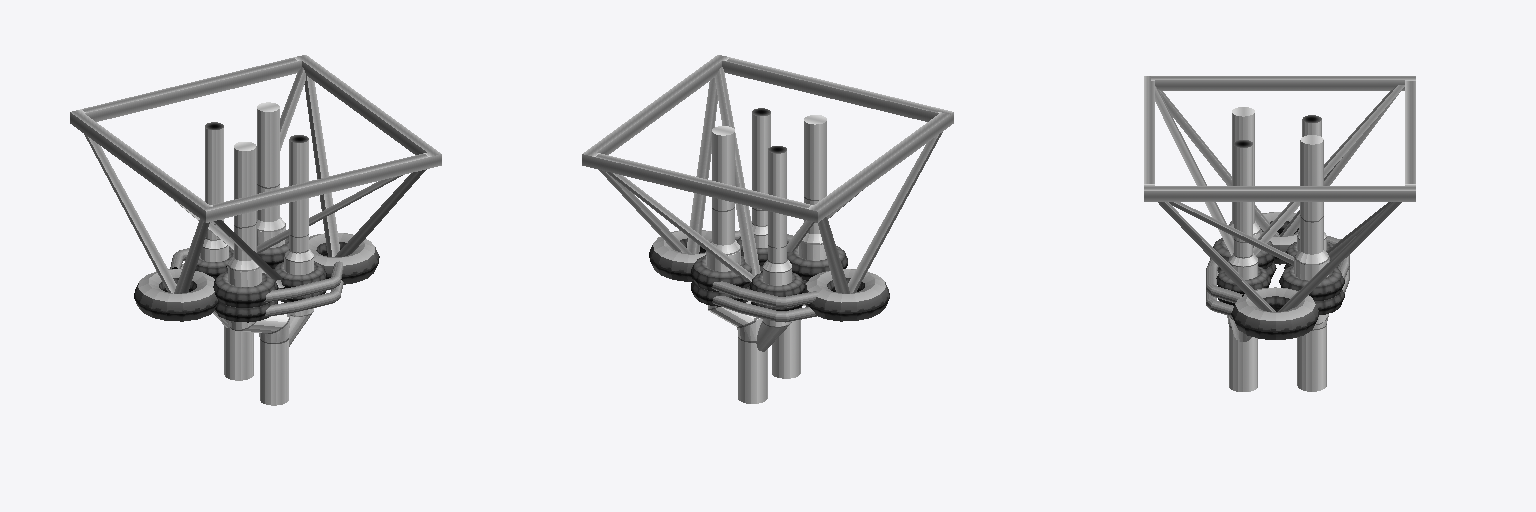
3 views of the same model, side by side, from view 1: azimuth 30°, elevation 25°; view 2: azimuth 150°, elevation 25°; view 3: azimuth 270°, elevation 25° (orthographic).
Parts seen in each view (by area): view 1: Turbo_Thrust; view 2: Turbo_Thrust; view 3: Turbo_Thrust.
Part boxes in pixels (x1,y1,x2,y2): Turbo_Thrust: (70,55,441,405); Turbo_Thrust: (582,55,953,403); Turbo_Thrust: (1144,76,1415,391).
Bounding box in the file's own units: 2.16 × 2.28 × 2.16.
1 materials, 1 textured.